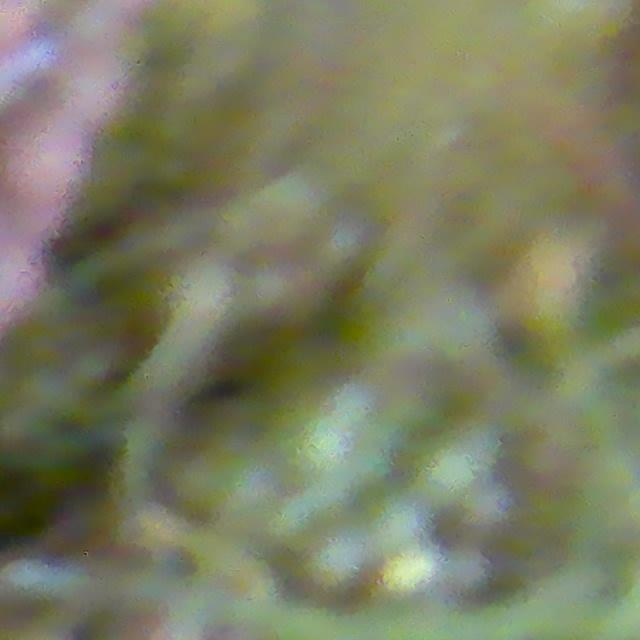SeaGrape: (0, 84, 95, 217)
